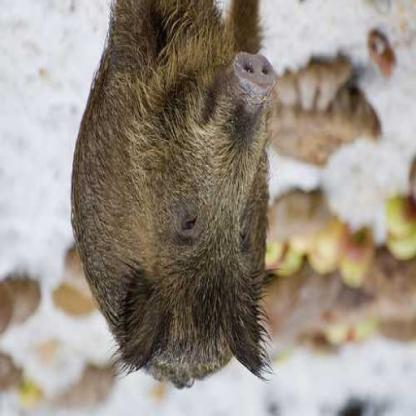boar: (70, 1, 282, 403)
